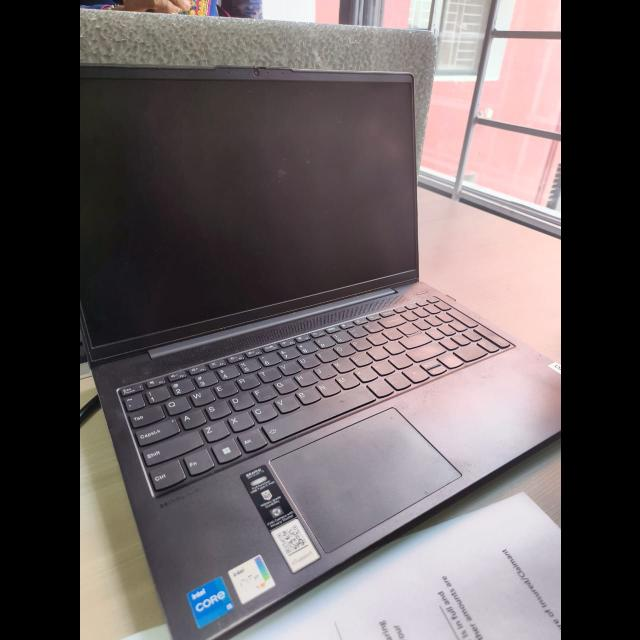laptop: (89, 51, 560, 640)
